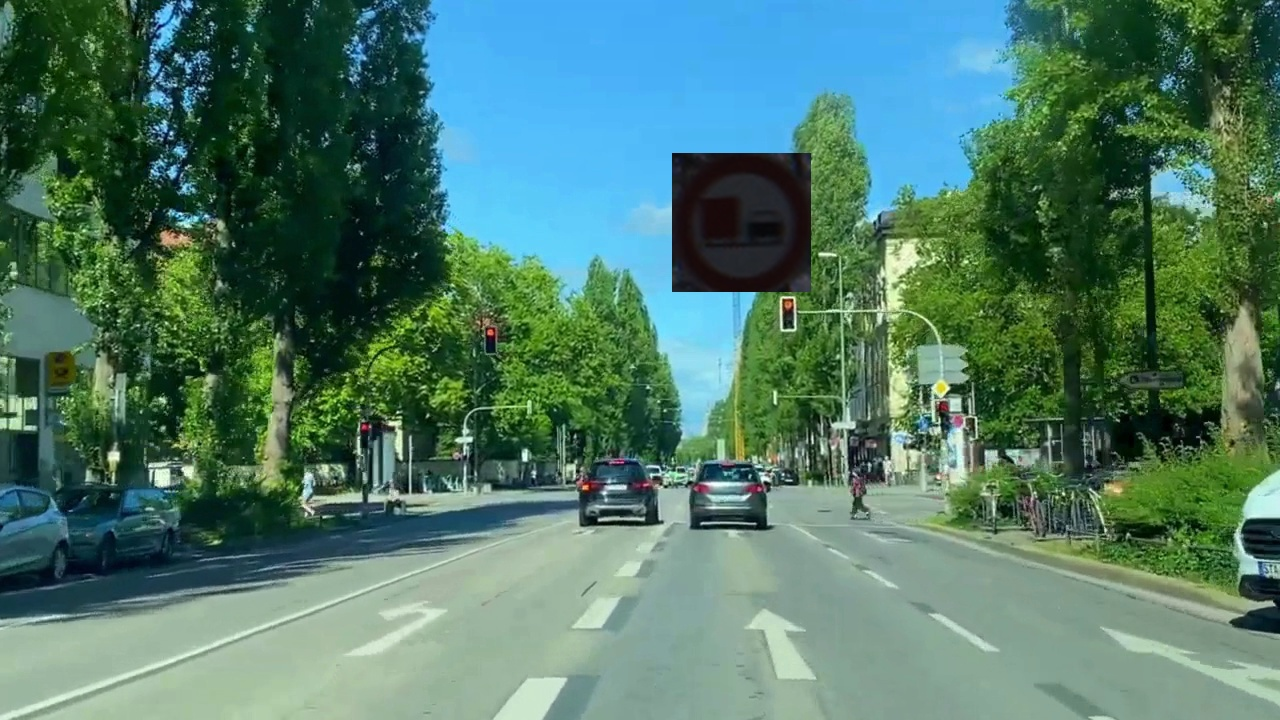No pass >3.5t: (672, 153, 811, 292)
